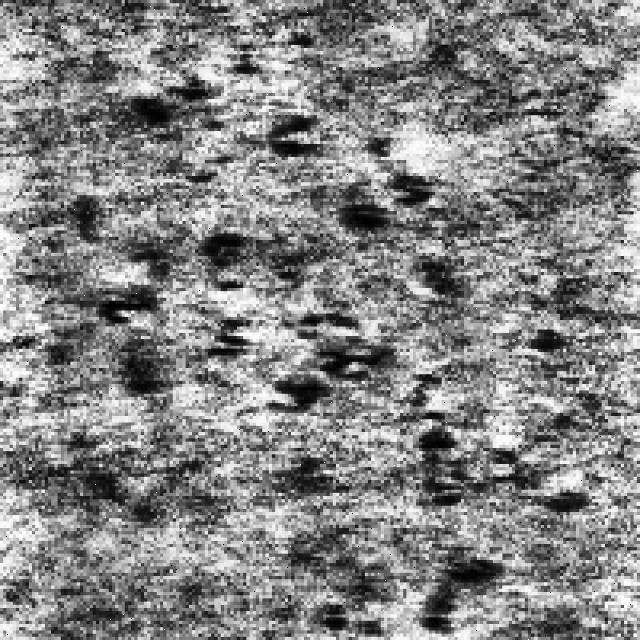Crazing: (109, 240, 496, 627), (124, 54, 420, 228)
